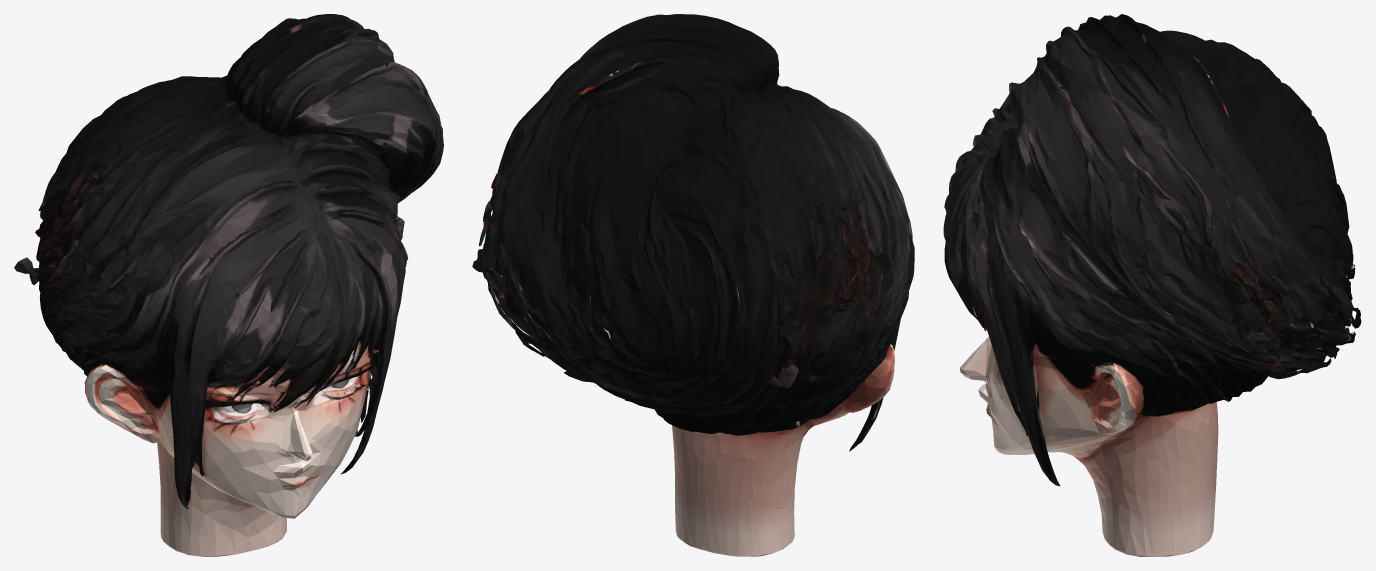
Rendered from side_siko_repaired_atlas.glb.
3 renders of one model, left to right at view 1: azimuth 30°, elevation 25°; view 2: azimuth 150°, elevation 25°; view 3: azimuth 270°, elevation 25°, orthographic. The views are drawn at different scales.
Parts seen in each view (by area): view 1: temp_mesh.ply; view 2: temp_mesh.ply; view 3: temp_mesh.ply.
Part boxes in pixels (x1,y1,x2,y2): temp_mesh.ply: (14, 14, 443, 556); temp_mesh.ply: (472, 14, 914, 556); temp_mesh.ply: (943, 14, 1361, 556).
Bounding box in the file's own units: 1.56 × 1.97 × 1.41.
1 material, 1 textured.
